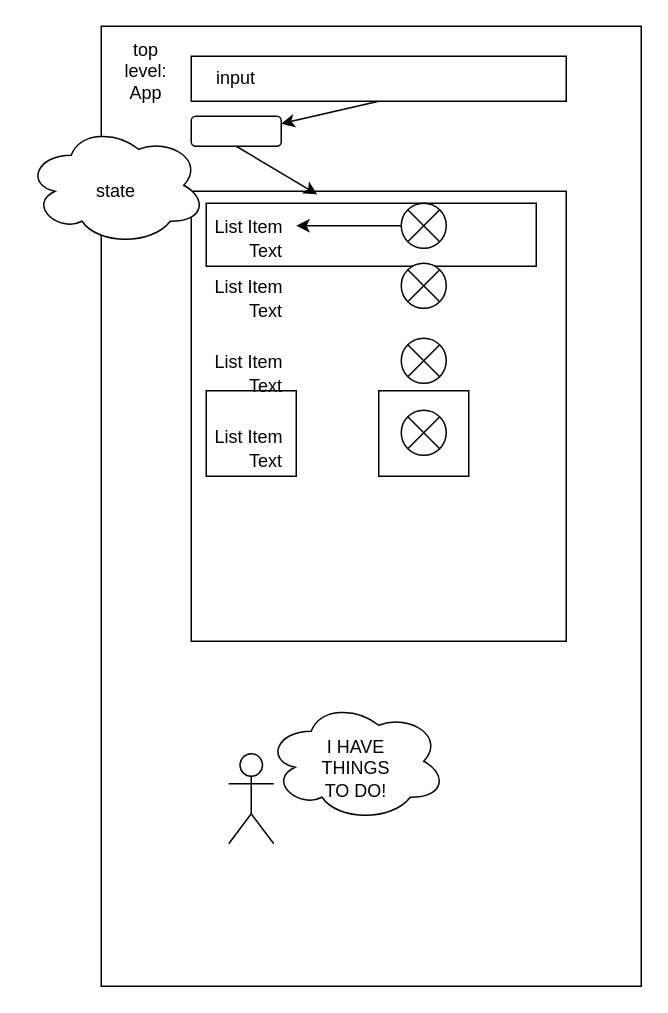
Some shapes in this 668 by 1013 pixel diagram are drawn without their labels. The shapes that lost their labels are listed below. From the top down, each one's centre as x and y in pixels, then its label:
pixel 235 130: addToList
pixel 250 798: Actor
